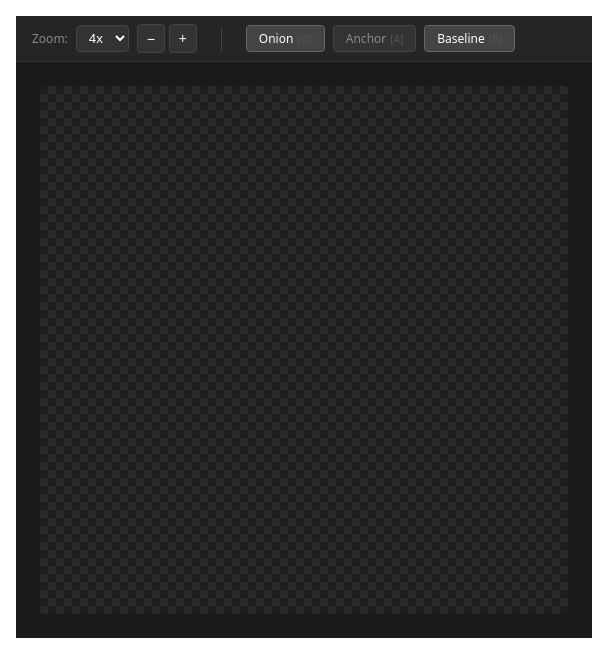
Test case: Stage Component (Story 7.3) › Onion Skinning Toggle (AC #2) › should toggle onion skin when button clicked
This screenshot has width=609, height=655.
Click the button with aria-label "toggle onion skin": (285, 38) [246, 25, 325, 52]
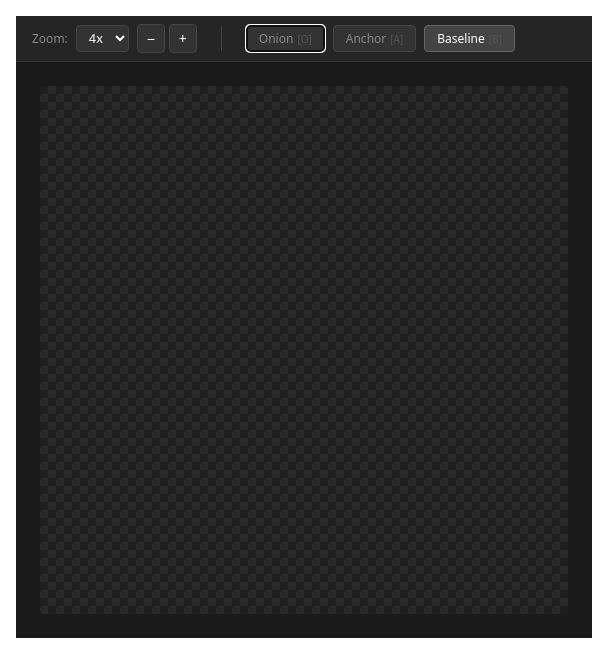
Check: the button with aria-label "toggle onion skin" is not pressed, box [246, 25, 325, 52]
